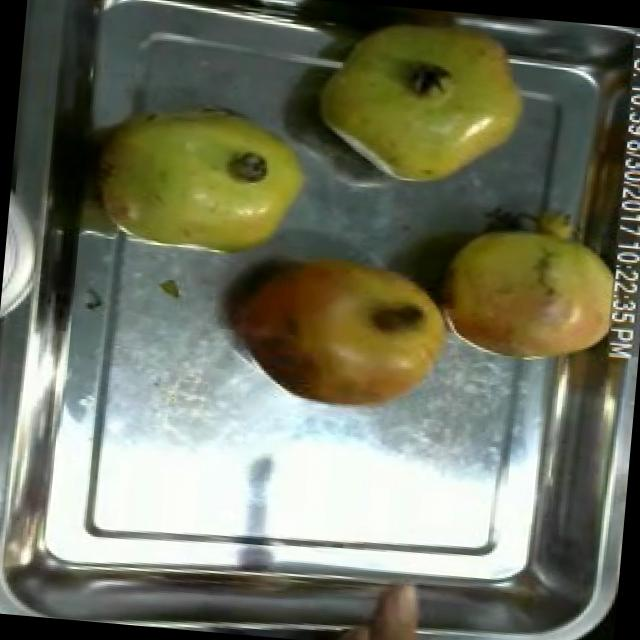fruit: (79, 75, 332, 274), (301, 0, 543, 205), (212, 238, 464, 420), (426, 206, 640, 375)
